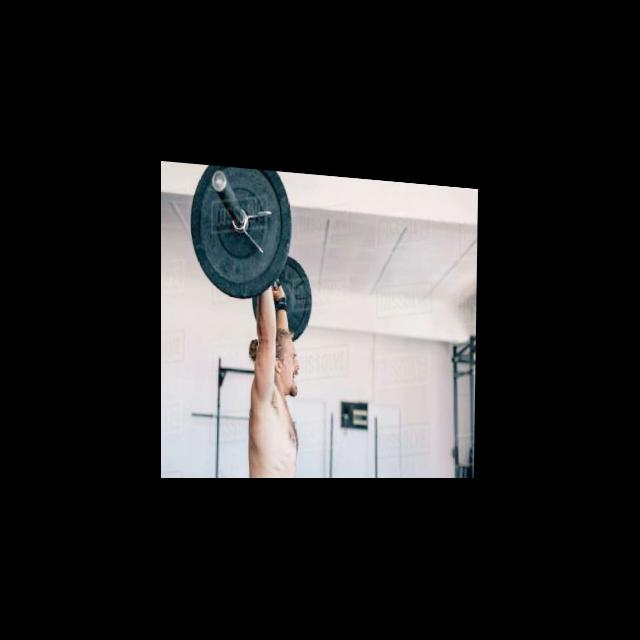barbell: (188, 165, 295, 303)
